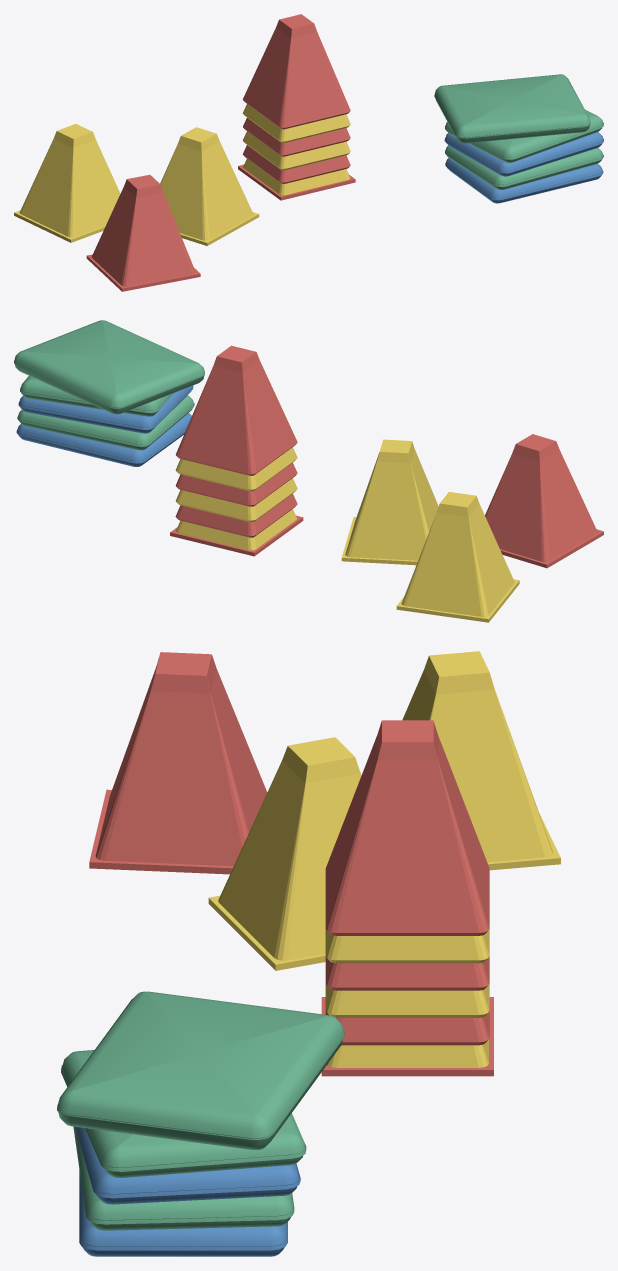
The model's file is community-sports-hall-and-changing-rooms-cone-and-bib--6711c19b__35124.glb.
3 renders of one model, top to bottom at view 1: azimuth 30°, elevation 25°; view 2: azimuth 150°, elevation 25°; view 3: azimuth 270°, elevation 25°, orthographic. The views are drawn at different scales.
Parts seen in each view (by area): view 1: cone-and-bib-set; view 2: cone-and-bib-set; view 3: cone-and-bib-set.
Boxes of the visible parts, x1,y1,x2,y2 form: cone-and-bib-set: [14, 14, 603, 291]; cone-and-bib-set: [14, 320, 603, 622]; cone-and-bib-set: [57, 651, 560, 1256].
Size of the model in its own units: 1.3 by 0.395 by 0.5848.
